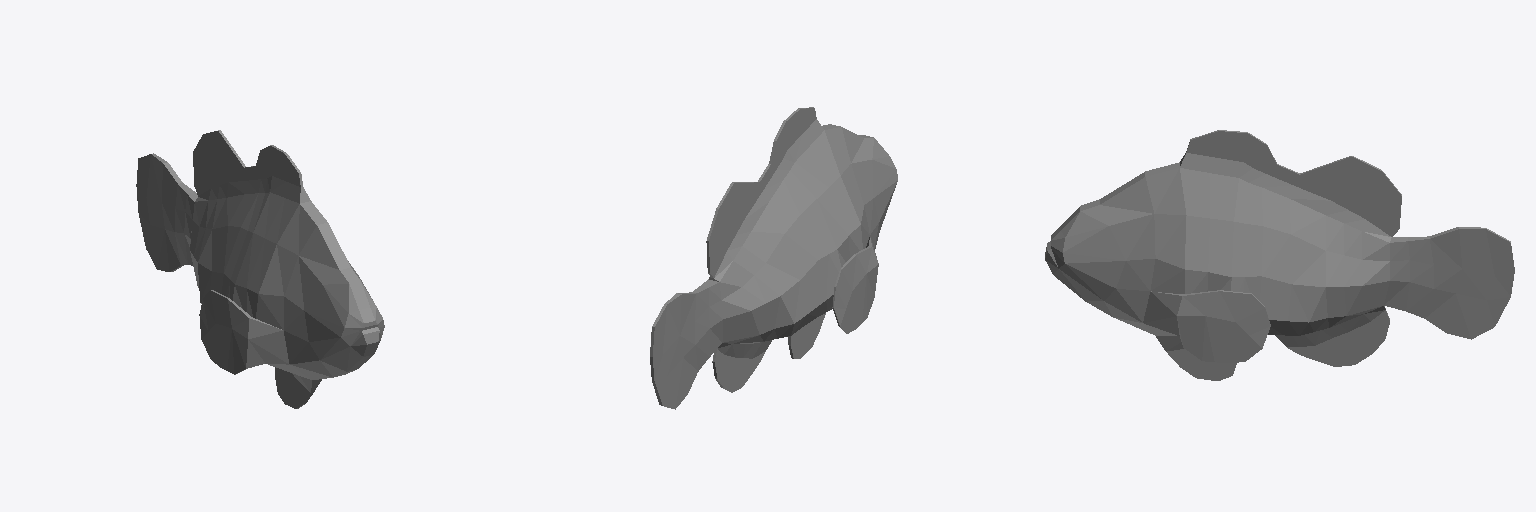
File: TropicalFish122.obj
3 views of the same model, side by side, from view 1: azimuth 30°, elevation 25°; view 2: azimuth 150°, elevation 25°; view 3: azimuth 270°, elevation 25° (orthographic).
Parts seen in each view (by area): view 1: TropicalFish12; view 2: TropicalFish12; view 3: TropicalFish12.
Part boxes in pixels (bbox=[...]): TropicalFish12: bbox=[136, 130, 384, 408]; TropicalFish12: bbox=[650, 107, 897, 409]; TropicalFish12: bbox=[1045, 130, 1514, 380].
Size of the model in its own units: 82.64 by 156 by 265.